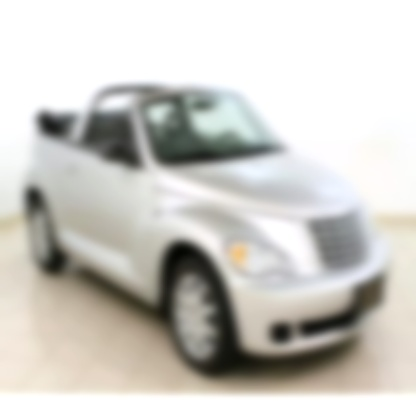Vehicle: (21, 52, 392, 376)
